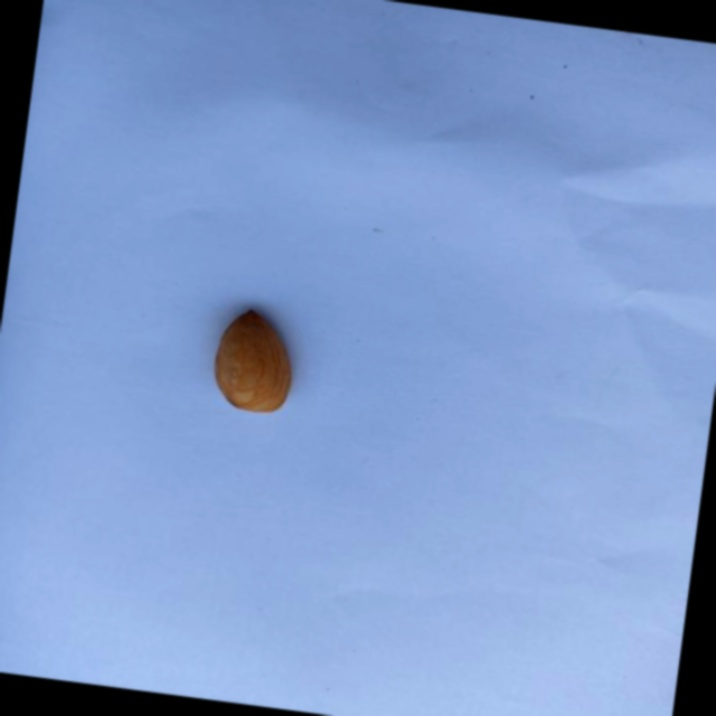grade2: (205, 303, 308, 421)
